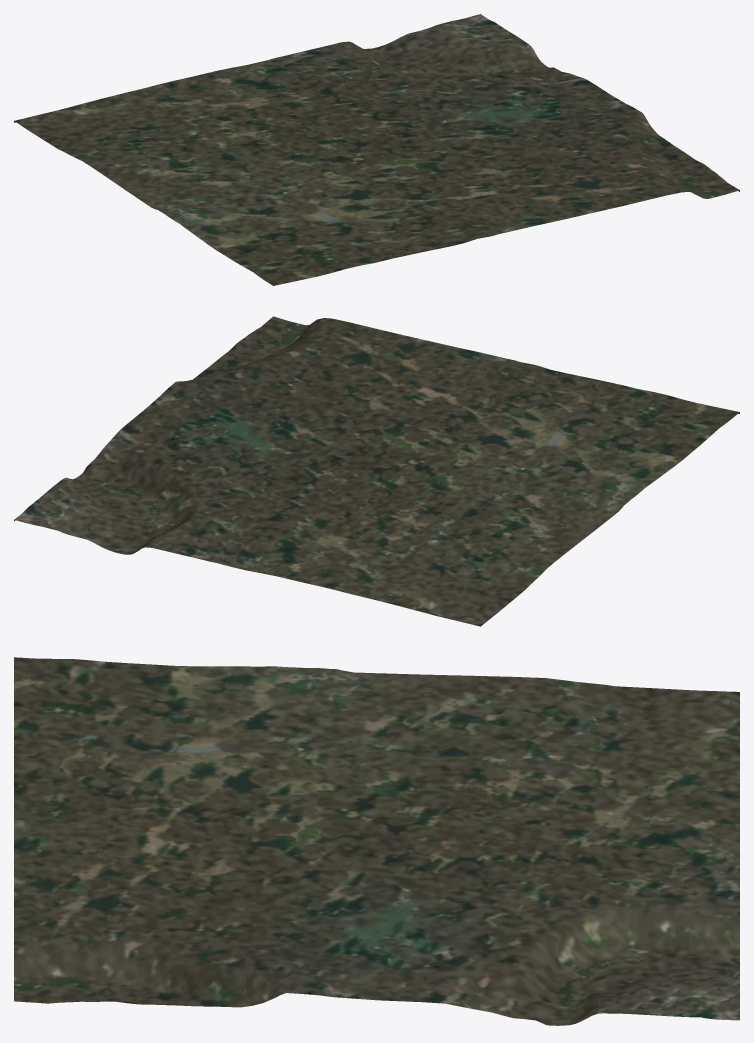
The picture shows the model from 3 angles, top to bottom: view 1: azimuth 30°, elevation 25°; view 2: azimuth 150°, elevation 25°; view 3: azimuth 270°, elevation 25°; orthographic projection. The views are drawn at different scales.
Size of the model in its own units: 250 by 21.37 by 241.
Materials: 1 (1 with a texture image).
